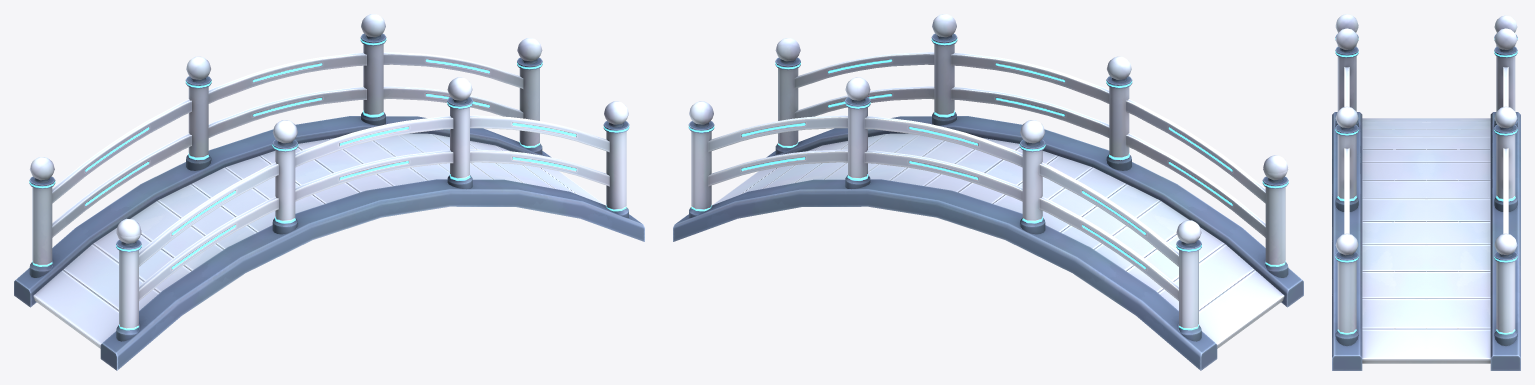
File: obj_bridge.gltf
3 views of the same model, side by side, from view 1: azimuth 30°, elevation 25°; view 2: azimuth 150°, elevation 25°; view 3: azimuth 270°, elevation 25° (orthographic). The views are drawn at different scales.
Parts seen in each view (by area): view 1: obj_bridge; view 2: obj_bridge; view 3: obj_bridge.
Boxes of the visible parts, left/top/right/bottom form: obj_bridge: left=14, top=14, right=644, bottom=370; obj_bridge: left=673, top=14, right=1303, bottom=370; obj_bridge: left=1332, top=14, right=1520, bottom=370.
Size of what is drawn, in the model's own units: 5.39 by 1.96 by 1.82.
1 material, 1 textured.
